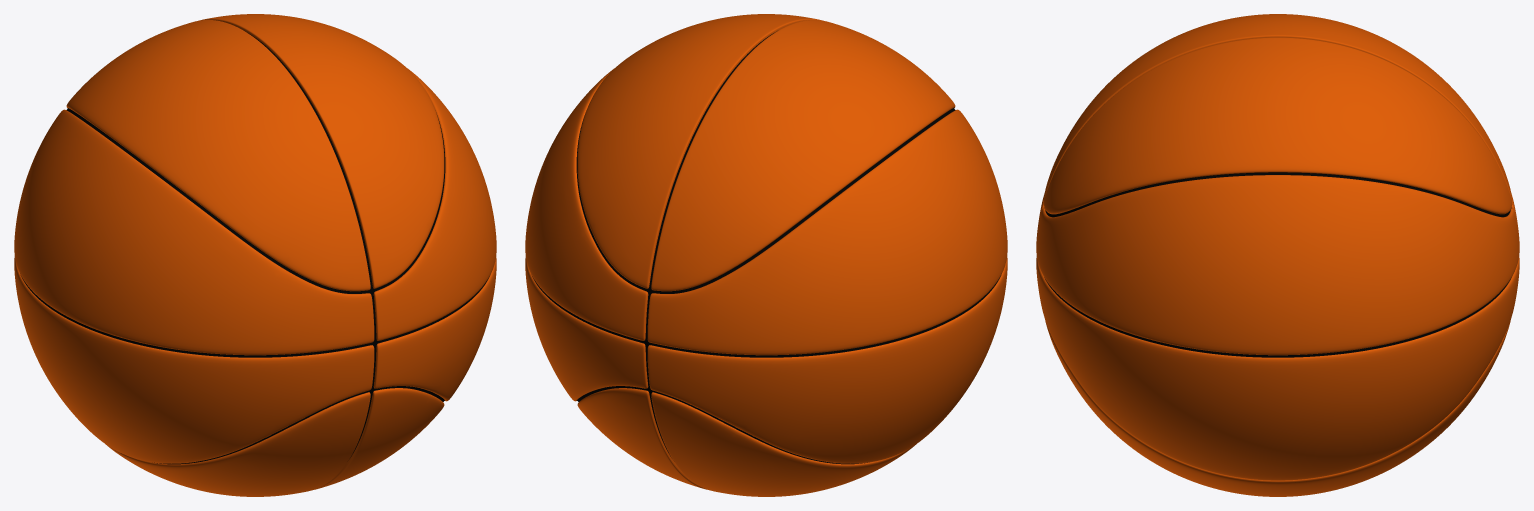
File: uploads_files_3525041_Basketball.fbx
3 renders of one model, left to right at view 1: azimuth 30°, elevation 25°; view 2: azimuth 150°, elevation 25°; view 3: azimuth 270°, elevation 25°, orthographic.
Visible parts, largest first — view 1: Cube; view 2: Cube; view 3: Cube.
Part boxes in pixels (<box>): Cube: <box>14,14,496,496</box>; Cube: <box>525,14,1007,496</box>; Cube: <box>1036,14,1519,496</box>.
Size of the model in its own units: 164 by 164 by 164.
